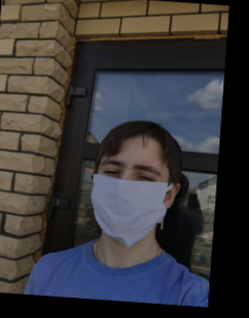with_mask: (91, 148, 172, 248)
